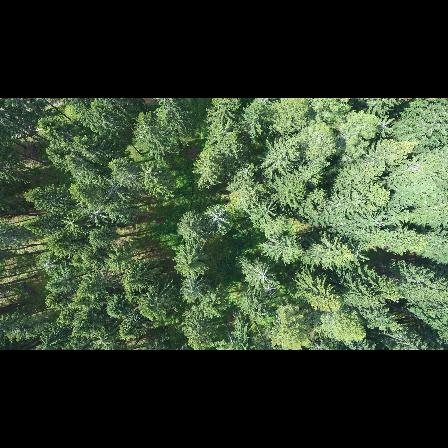Sick: (204, 204, 231, 232), (375, 112, 397, 140), (36, 254, 59, 276), (253, 264, 272, 287)
